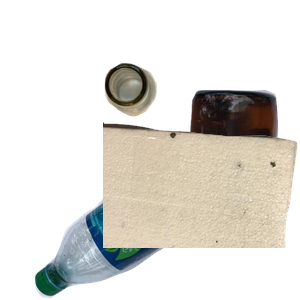glass: (87, 87, 300, 267)
metal: (102, 60, 252, 169)
plastic: (32, 154, 242, 300)
trash: (103, 120, 300, 300)
